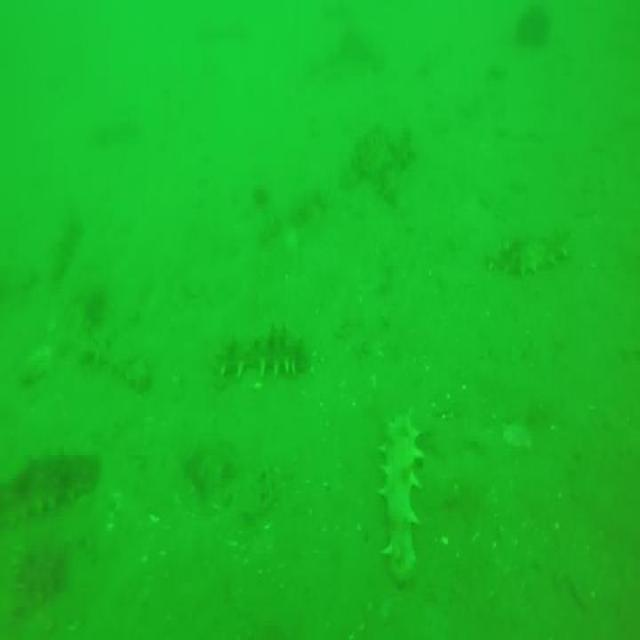holothurian: (373, 416, 422, 582), (0, 453, 100, 518), (210, 322, 308, 381), (489, 225, 576, 278), (76, 345, 156, 395), (50, 210, 85, 278)
